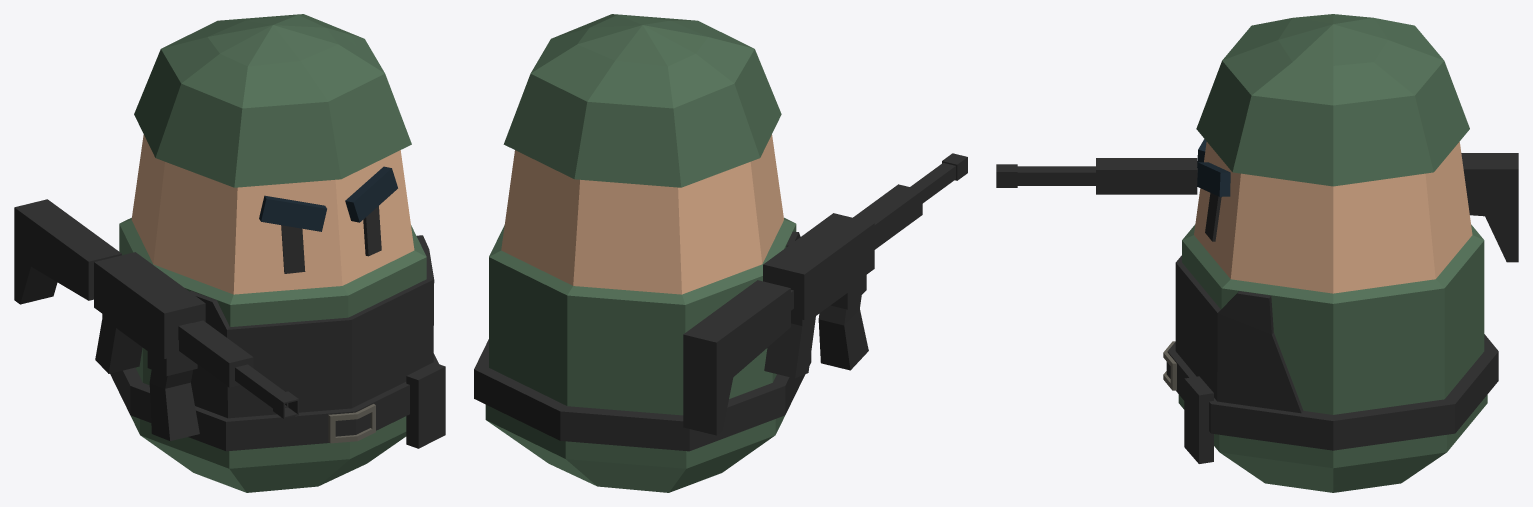
The model's file is Soldier.fbx.
The picture shows the model from 3 angles, left to right: view 1: azimuth 30°, elevation 25°; view 2: azimuth 150°, elevation 25°; view 3: azimuth 270°, elevation 25°; orthographic projection.
Visible parts, largest first — view 1: soldier; view 2: soldier; view 3: soldier.
Part boxes in pixels (<box>): soldier: <box>14,14,445,492</box>; soldier: <box>474,14,967,492</box>; soldier: <box>996,14,1518,492</box>.
Size of the model in its own units: 59.64 by 85.93 by 81.53.
